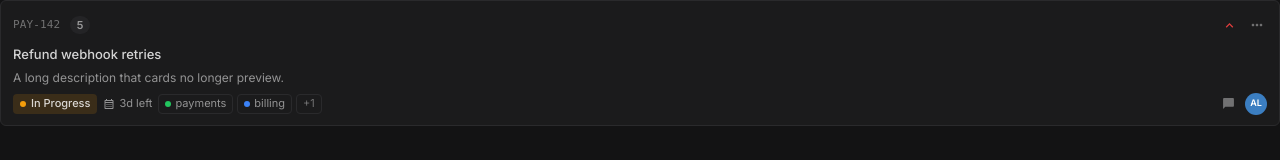
Test: card anatomy › expanding the label overflow reveals the remaining labels
The image size is (1280, 160).
Click the button named "Show all 3 labels": (309, 104) x1=296 y1=94 x2=322 y2=114
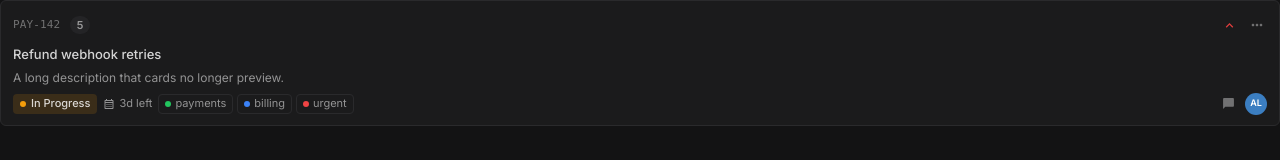
Check: the text "urgent" is shown, box x1=296 y1=94 x2=354 y2=114
